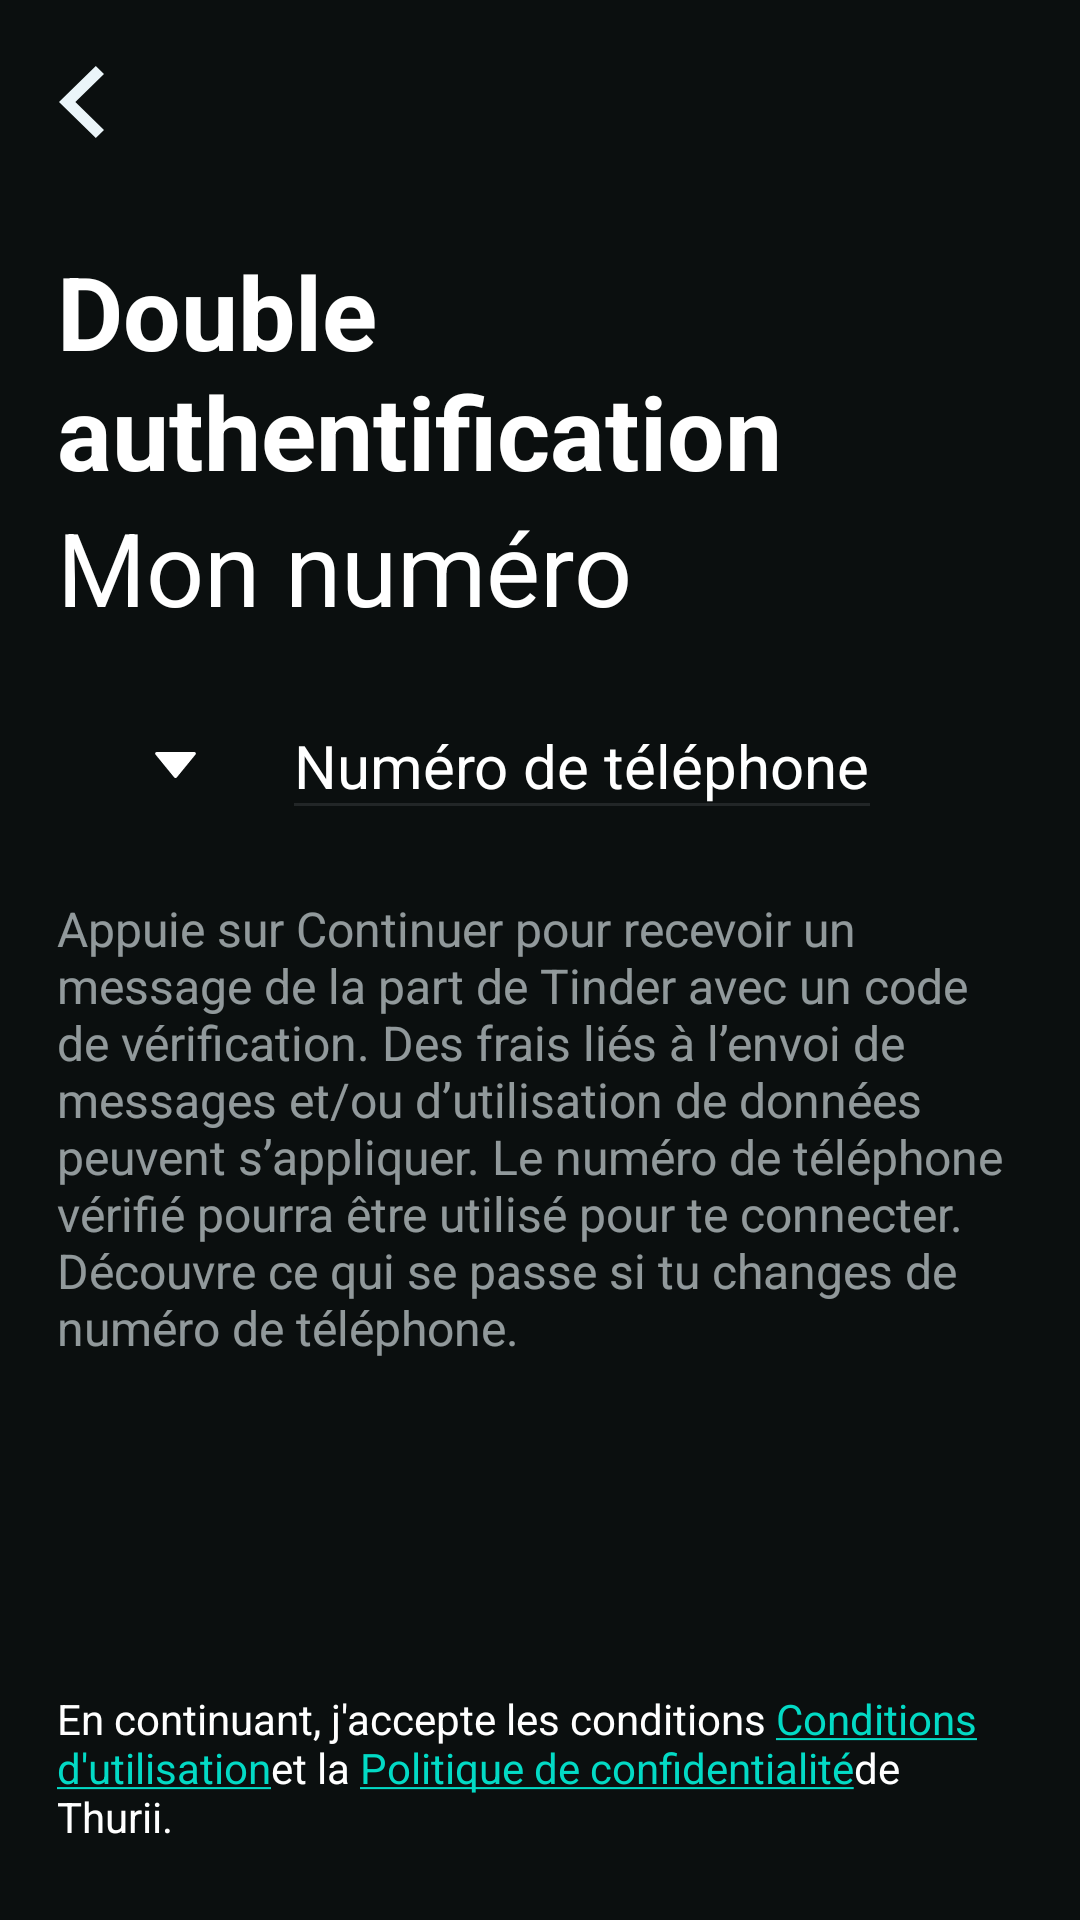

Icons on this 1080w x 1920h Android screen, each with its box as (x1, y1, x2, y2):
Bouton Retour: (59, 66, 104, 138)
